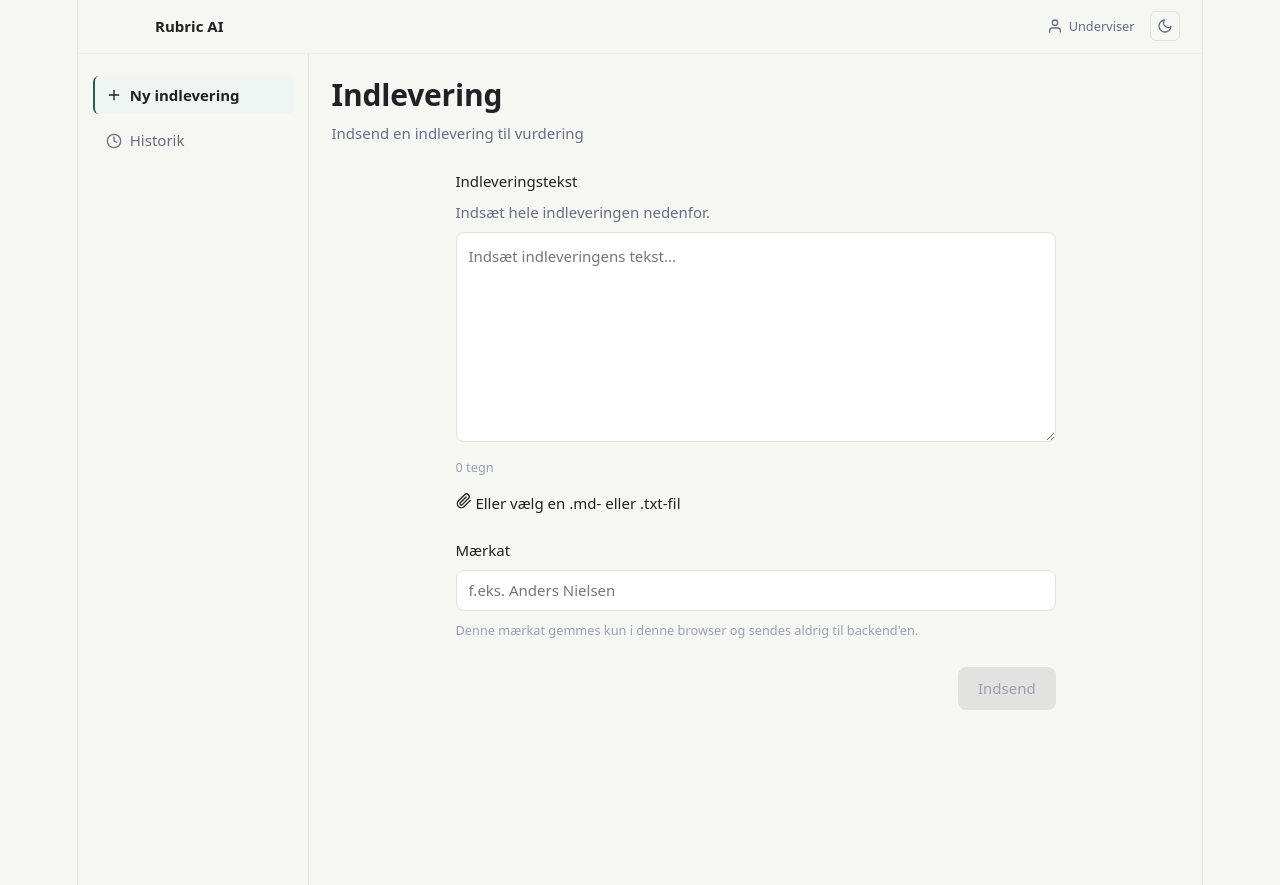
Test case: Upload flow › warns before navigating away or reloading while a submission is in flight
The image size is (1280, 885).
Step 1. Type "Some report text." into the text box labelled "Indleveringstekst" → (756, 337), box [456,232,1056,442]
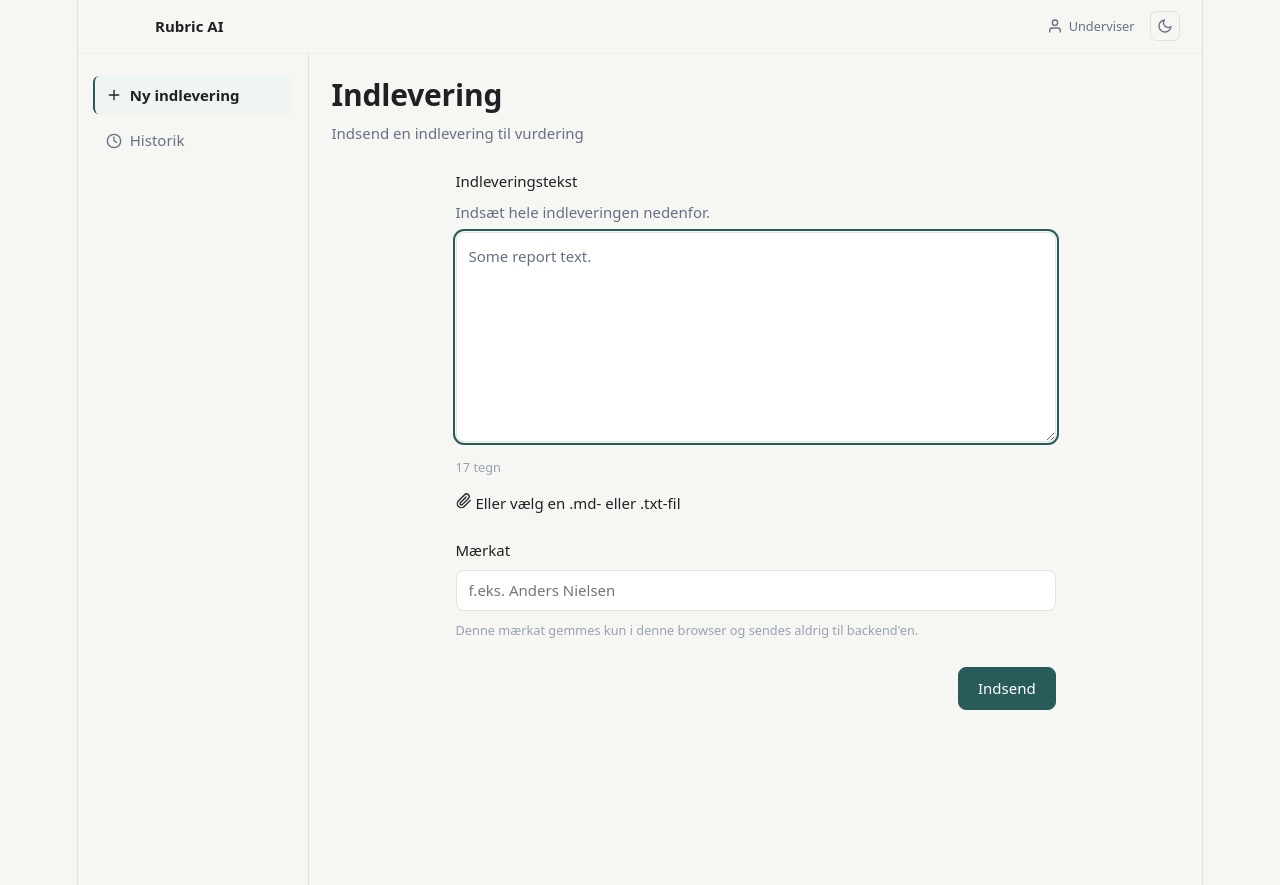
Step 2. Click the button "Indsend" → (1007, 688), box [958,667,1056,710]
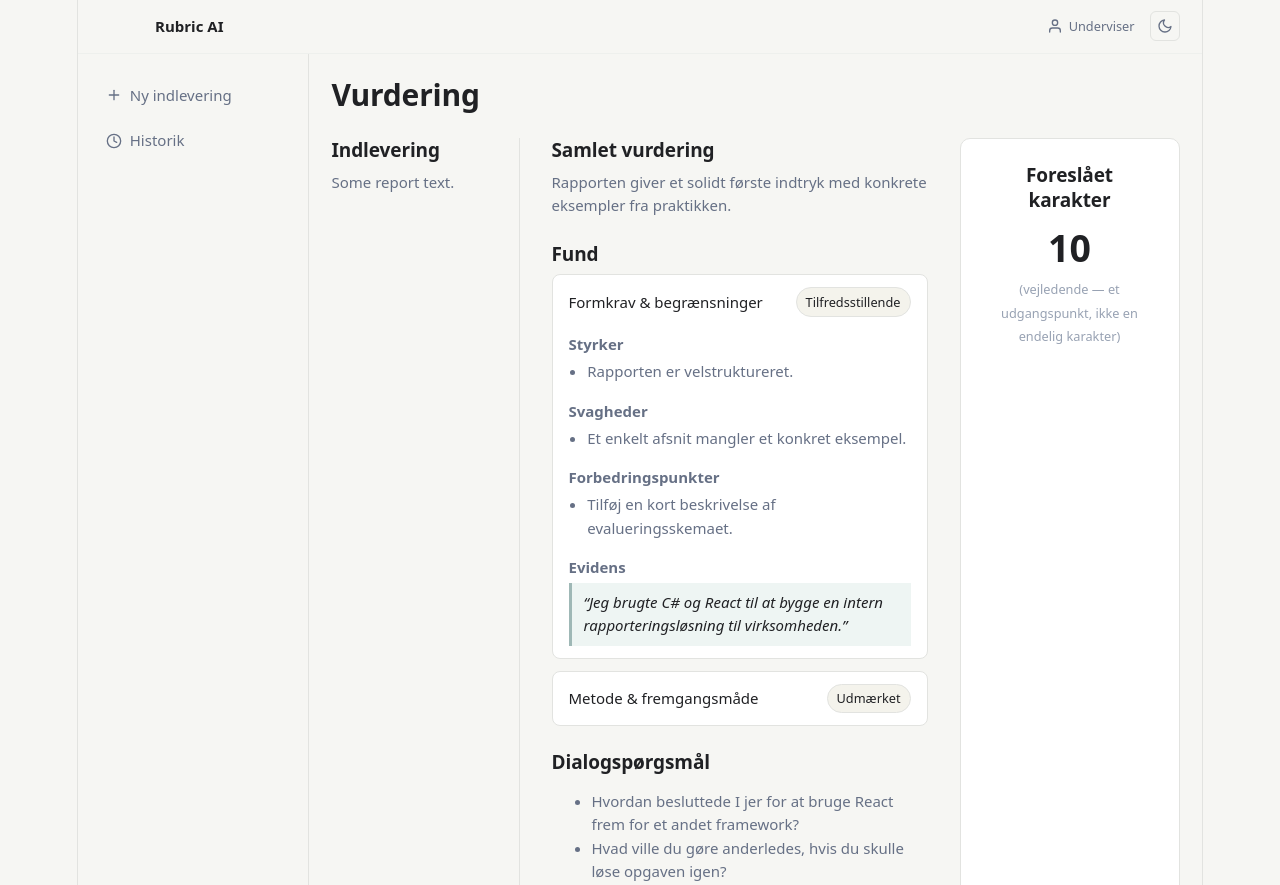
Result: the heading "Vurdering" is shown at [332,74,480,115]
